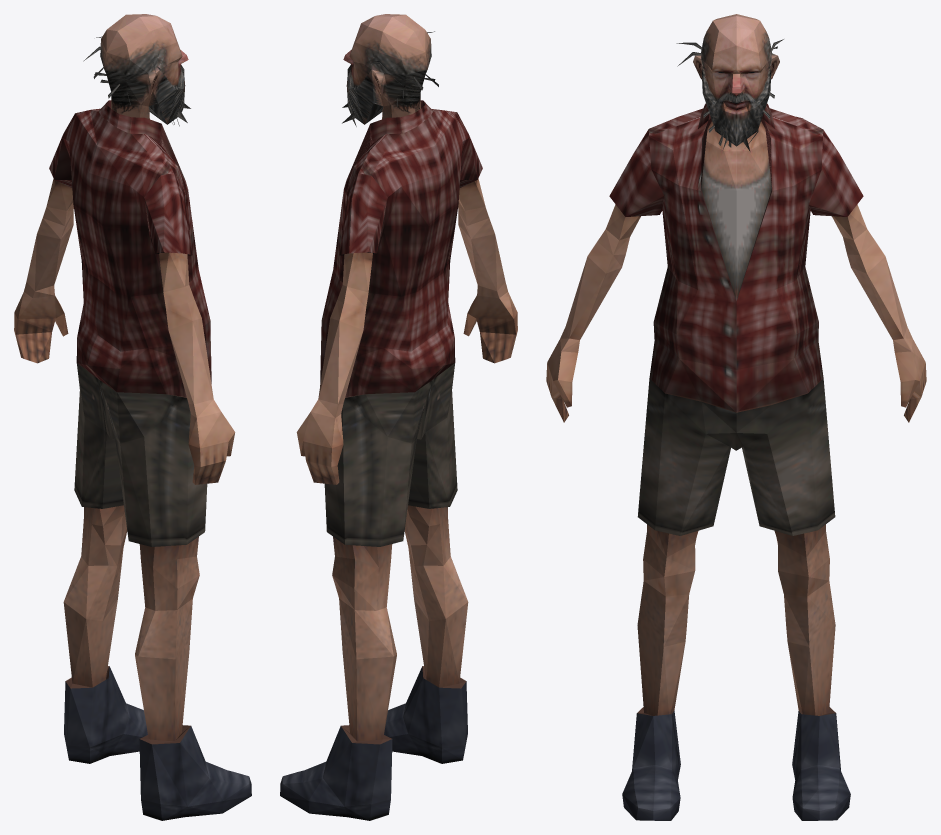
Rendered from cwmohb2.obj.
The picture shows the model from 3 angles, left to right: view 1: azimuth 30°, elevation 25°; view 2: azimuth 150°, elevation 25°; view 3: azimuth 270°, elevation 25°; orthographic projection.
Parts seen in each view (by area): view 1: _Pelvis; view 2: _Pelvis; view 3: _Pelvis.
Boxes of the visible parts, x1,y1,x2,y2 form: _Pelvis: [14, 14, 251, 820]; _Pelvis: [280, 14, 517, 820]; _Pelvis: [546, 14, 926, 820].
Bounding box in the file's own units: 0.2823 × 1.67 × 0.7383.
1 material, 1 textured.
